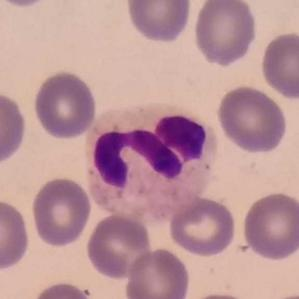Neutrophil: (86, 98, 218, 219)
RBC: (214, 84, 290, 156), (31, 68, 99, 141), (84, 212, 154, 281), (29, 175, 94, 249), (191, 0, 259, 68), (166, 195, 239, 258), (239, 189, 299, 262), (123, 245, 191, 299), (124, 0, 194, 45), (258, 29, 299, 101), (0, 197, 32, 273), (0, 88, 29, 168), (30, 279, 98, 299), (182, 290, 258, 299), (1, 0, 56, 9)
